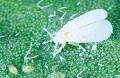whitefly: (43, 8, 113, 53)
